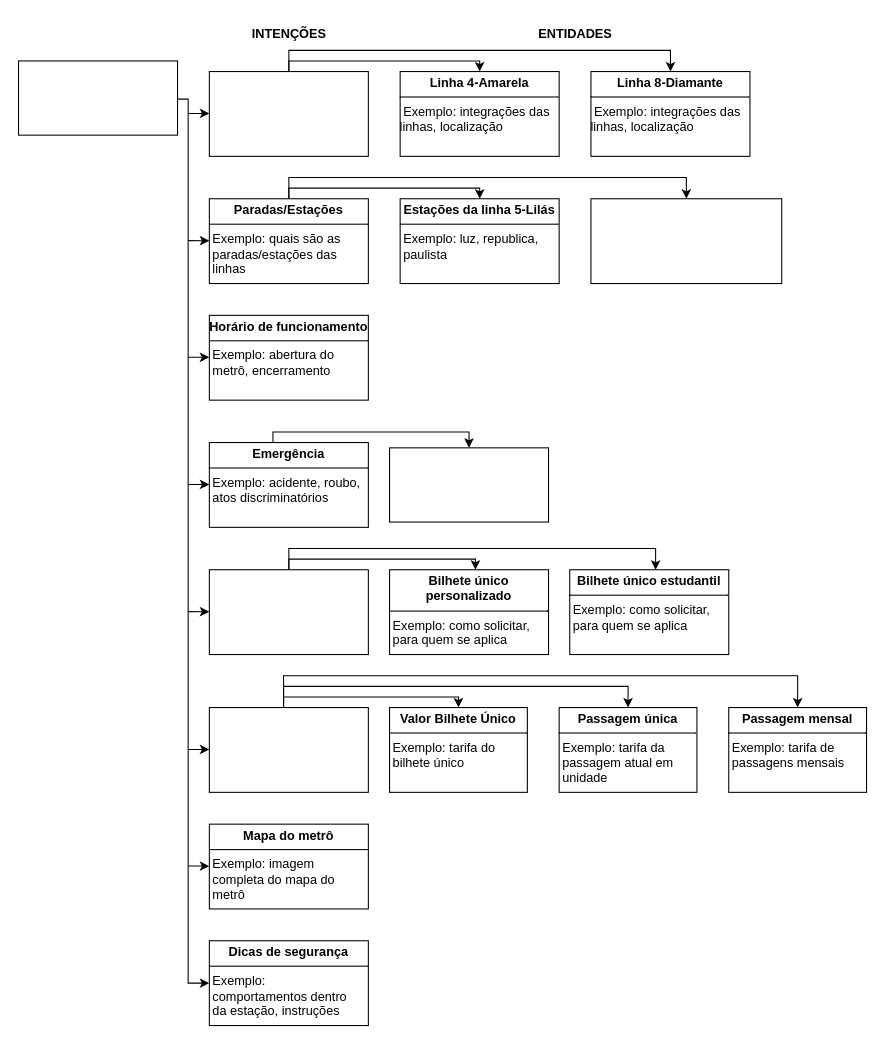
This 885x1044 diagram has some shape labels left out. Each missing label, with the centre of its shape:
Bem-Vindo Exemplo: Olá, sou a Ceci! Como posso te ajudar?: the point at 97,97
Bilhetes Exemplo: como solicitar bilhete, quem tem direito ao benefício: the point at 288,612
Estações da linha 9-Esmeralda Exemplo: luz, republica, paulista: the point at 686,241
Informações das Linhas Exemplo: integrações das linhas, localização: the point at 288,113
Informações do incidente Exemplo: onde ocorreu, em qual linha e estação: the point at 468,484
Tarifas e pagamentos Exemplo: valores de passagens, passes unitários, bilhetes: the point at 288,749
